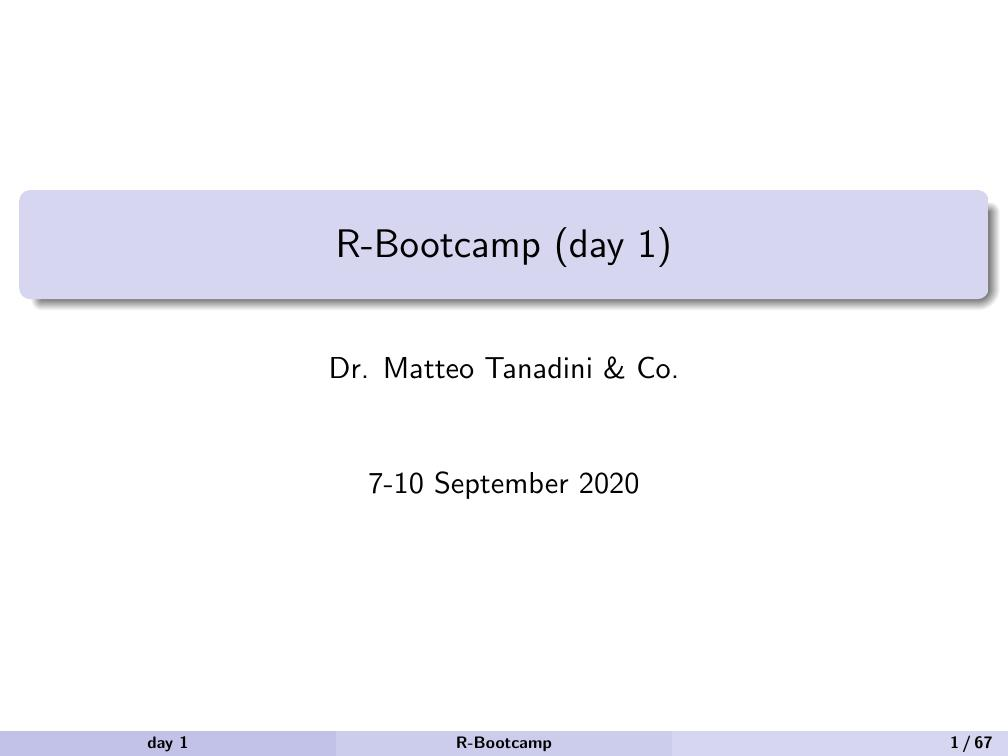Title: (324, 216, 677, 281)
